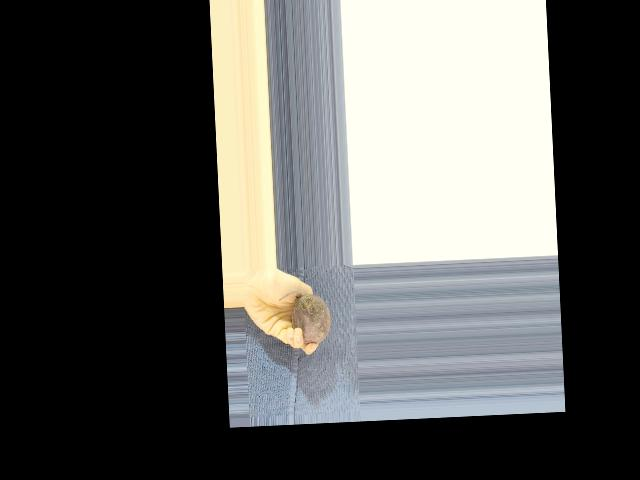beet: (277, 288, 331, 345)
